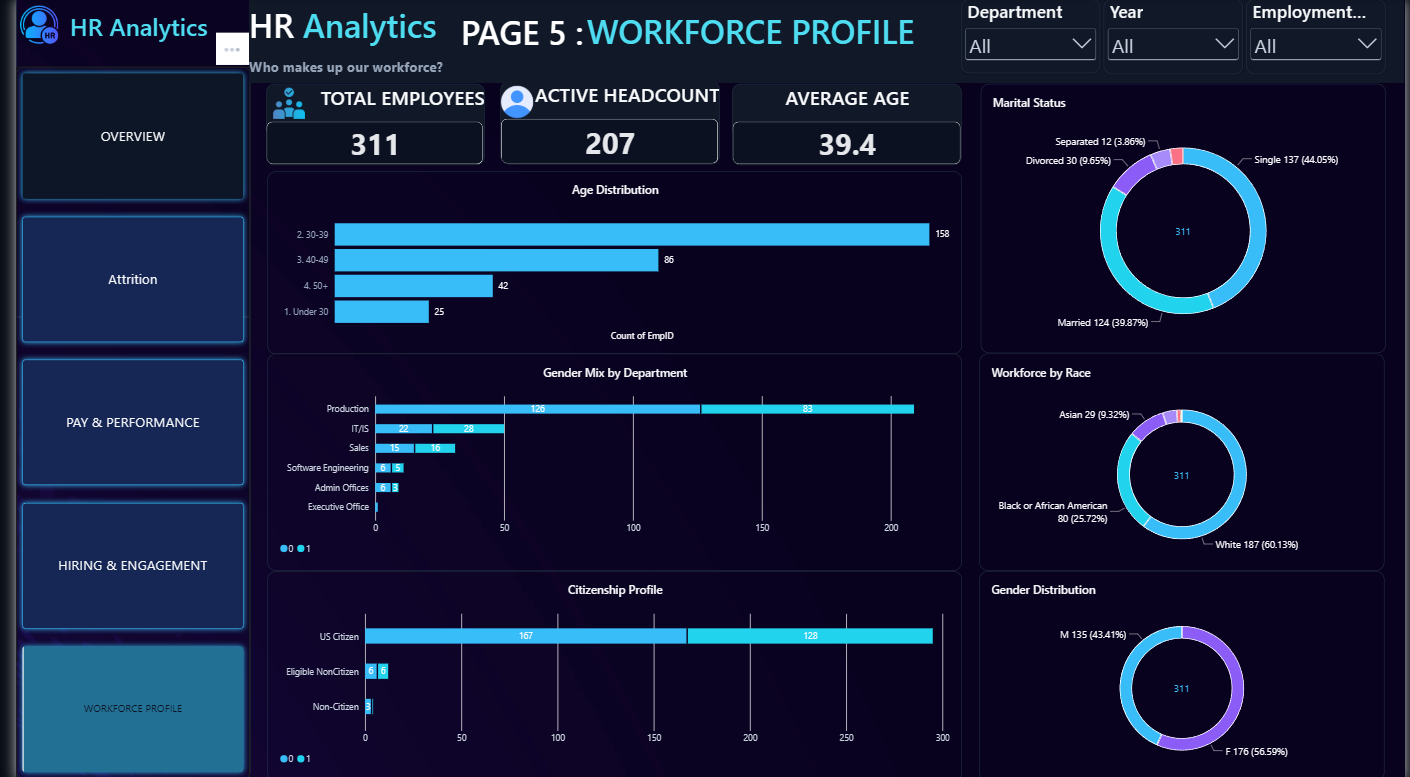

What the dashboard file says about the page in this screenshot:
{"tool":"powerbi","page":{"name":"WORKFORCE PROFILE","canvas":[1920,1080],"ordinal":4},"visuals":[{"type":"shape","box":[0,0,323.3,440],"z":0},{"type":"textbox","title":"HR ","box":[321.8,0,1598,114.6],"z":0,"group":"g1"},{"type":"group","id":"g1","title":"Group 6","box":[321.8,0,1598,114.6],"z":0,"group":"g5"},{"type":"cardVisual","title":"TOTAL EMPLOYEES","fields":{"Data":["measure.total_employee"]},"box":[346,116.8,302,112.4],"z":0,"group":"g3"},{"type":"image","box":[2.5,3.5,60,62.5],"z":1000},{"type":"cardVisual","title":"ACTIVE HEADCOUNT","fields":{"Data":["measure.active_headcount"]},"box":[670.4,113.6,302.7,115.6],"z":1000,"group":"g2"},{"type":"cardVisual","title":"AVERAGE AGE","fields":{"Data":["measure.Avg Age"]},"box":[989.6,116.8,317.4,112.4],"z":1000,"group":"g4"},{"type":"textbox","title":"HR Analytics","box":[62.5,10,212.5,51.2],"z":2000},{"type":"textbox","title":"PAGE 5 :","box":[615.5,10.1,187.7,80.3],"z":2000,"group":"g5"},{"type":"pageNavigator","box":[0,94.2,324.1,985.5],"z":3000},{"type":"image","box":[346,121.6,63.9,46.3],"z":4000,"group":"g3"},{"type":"barChart","title":"Gender Mix by Department","fields":{"Category":["HRDataset_v14.Department"],"Series":["HRDataset_v14.GenderID"],"Y":["CountNonNull(HRDataset_v14.EmpID)"]},"box":[347.5,490,960,300],"z":4000},{"type":"textbox","title":"Analytics","box":[396.9,0,200.1,76.4],"z":5000,"group":"g5"},{"type":"clusteredBarChart","title":"Age Distribution","fields":{"Category":["HRDataset_v14.AgeGroup"],"Y":["CountNonNull(HRDataset_v14.EmpID)"]},"box":[347.5,237.5,960,252.5],"z":5000},{"type":"slicer","fields":{"Values":["HRDataset_v14.Department"]},"box":[1306.3,0,192.3,102.5],"z":6000,"group":"g5"},{"type":"group","id":"g2","title":"Group 2","box":[669.5,113.6,303.6,115.6],"z":6000},{"type":"image","box":[669.5,116.7,46.3,50.7],"z":6002,"group":"g2"},{"type":"slicer","fields":{"Values":["DimDate.Year"]},"box":[1503.2,0,192.3,103.9],"z":7000,"group":"g5"},{"type":"group","id":"g3","title":"Group 5","box":[346,116.8,302,112.4],"z":7000},{"type":"slicer","fields":{"Values":["HRDataset_v14.EmploymentStatus"]},"box":[1700.1,0,192.3,103.9],"z":8000,"group":"g5"},{"type":"group","id":"g4","title":"Group 2","box":[989.6,116.8,317.4,112.4],"z":8000},{"type":"donutChart","title":"Gender Distribution","fields":{"Category":["HRDataset_v14.Sex"],"Y":["CountNonNull(HRDataset_v14.EmpID)"]},"box":[1332.5,790,560,290],"z":9000},{"type":"textbox","title":"WORKFORCE PROFILE","box":[788.6,7.7,569.8,78.9],"z":10000,"group":"g5"},{"type":"donutChart","title":"Workforce by Race","fields":{"Category":["HRDataset_v14.RaceDesc"],"Y":["CountNonNull(HRDataset_v14.EmpID)"]},"box":[1332.5,490,560,300],"z":10000},{"type":"donutChart","title":"Marital Status","fields":{"Category":["HRDataset_v14.MaritalDesc"],"Y":["CountNonNull(HRDataset_v14.EmpID)"]},"box":[1333.5,116.8,559.8,372.5],"z":11000},{"type":"barChart","title":"Citizenship Profile","fields":{"Category":["HRDataset_v14.CitizenDesc"],"Series":["HRDataset_v14.GenderID"],"Y":["CountNonNull(HRDataset_v14.EmpID)"]},"box":[347.5,790,960,290],"z":12000},{"type":"group","id":"g5","title":"Group 1","box":[321.8,0,1598,114.6],"z":13000}]}

Visuals, with their boxes on the page's 1920x1080 design canvas (x1, y1, x2, y2). These are canvas units, not pixel positions in the 1410x777 screenshot, which may show the page scaled, cropped or inside an application window:
shape: x1=0 y1=0 x2=323 y2=440
"HR " textbox: x1=322 y1=0 x2=1920 y2=115
"Group 6" group: x1=322 y1=0 x2=1920 y2=115
"TOTAL EMPLOYEES" cardVisual: x1=346 y1=117 x2=648 y2=229
image: x1=2 y1=4 x2=62 y2=66
"ACTIVE HEADCOUNT" cardVisual: x1=670 y1=114 x2=973 y2=229
"AVERAGE AGE" cardVisual: x1=990 y1=117 x2=1307 y2=229
"HR Analytics" textbox: x1=62 y1=10 x2=275 y2=61
"PAGE 5 :" textbox: x1=616 y1=10 x2=803 y2=90
pageNavigator: x1=0 y1=94 x2=324 y2=1080
image: x1=346 y1=122 x2=410 y2=168
"Gender Mix by Department" barChart: x1=348 y1=490 x2=1308 y2=790
"Analytics" textbox: x1=397 y1=0 x2=597 y2=76
"Age Distribution" clusteredBarChart: x1=348 y1=238 x2=1308 y2=490
slicer - HRDataset_v14.Department: x1=1306 y1=0 x2=1499 y2=102
"Group 2" group: x1=670 y1=114 x2=973 y2=229
image: x1=670 y1=117 x2=716 y2=167
slicer - DimDate.Year: x1=1503 y1=0 x2=1696 y2=104
"Group 5" group: x1=346 y1=117 x2=648 y2=229
slicer - HRDataset_v14.EmploymentStatus: x1=1700 y1=0 x2=1892 y2=104
"Group 2" group: x1=990 y1=117 x2=1307 y2=229
"Gender Distribution" donutChart: x1=1332 y1=790 x2=1892 y2=1080
"WORKFORCE PROFILE" textbox: x1=789 y1=8 x2=1358 y2=87
"Workforce by Race" donutChart: x1=1332 y1=490 x2=1892 y2=790
"Marital Status" donutChart: x1=1334 y1=117 x2=1893 y2=489
"Citizenship Profile" barChart: x1=348 y1=790 x2=1308 y2=1080
"Group 1" group: x1=322 y1=0 x2=1920 y2=115
